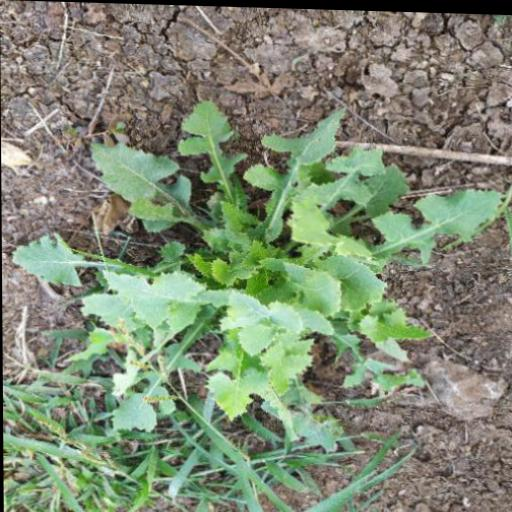weed: (14, 107, 493, 444)
